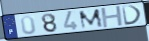0: (20, 15, 37, 35)
4: (63, 10, 80, 32)
8: (40, 13, 58, 33)
D: (121, 5, 144, 27)
H: (100, 5, 125, 29)
M: (77, 8, 104, 30)
